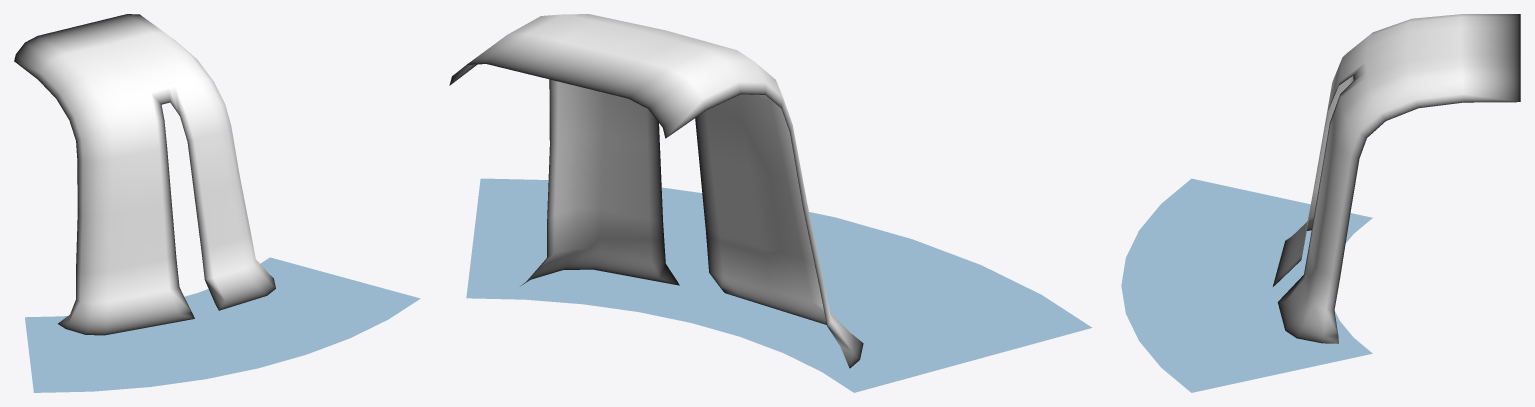
The model's file is SM_WaterfallSplit2.fbx.
3 views of the same model, side by side, from view 1: azimuth 30°, elevation 25°; view 2: azimuth 150°, elevation 25°; view 3: azimuth 270°, elevation 25° (orthographic). The views are drawn at different scales.
Parts seen in each view (by area): view 1: SM_WaterfallSplit2; view 2: SM_WaterfallSplit2; view 3: SM_WaterfallSplit2.
Part boxes in pixels (<box>): SM_WaterfallSplit2: <box>14,14,420,392</box>; SM_WaterfallSplit2: <box>449,14,1092,392</box>; SM_WaterfallSplit2: <box>1121,14,1520,392</box>.
Size of the model in its own units: 1281 by 679 by 1008.
